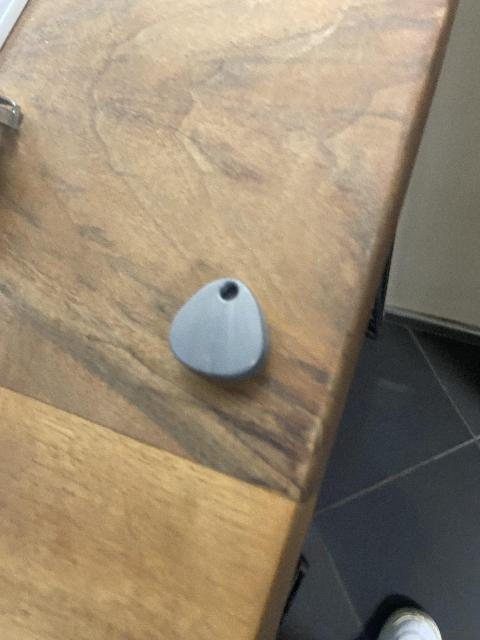Plastik: (171, 276, 262, 375)
